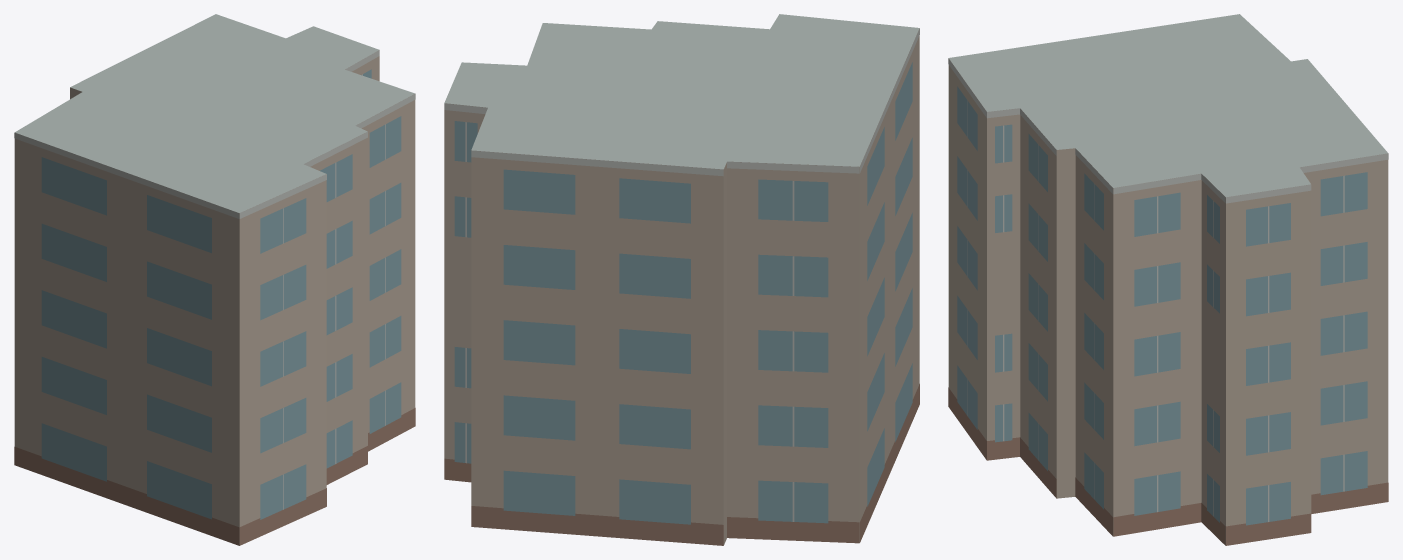
Rendered from survey-upis-32863600.glb.
The picture shows the model from 3 angles, left to right: view 1: azimuth 30°, elevation 25°; view 2: azimuth 150°, elevation 25°; view 3: azimuth 270°, elevation 25°; orthographic projection. The views are drawn at different scales.
Parts seen in each view (by area): view 1: survey-upis-32863600.tmp; view 2: survey-upis-32863600.tmp; view 3: survey-upis-32863600.tmp.
Boxes of the visible parts, x1,y1,x2,y2 form: survey-upis-32863600.tmp: [14, 14, 415, 545]; survey-upis-32863600.tmp: [444, 14, 919, 545]; survey-upis-32863600.tmp: [948, 14, 1388, 545].
Size of the model in its own units: 15.23 by 13.5 by 15.45.
